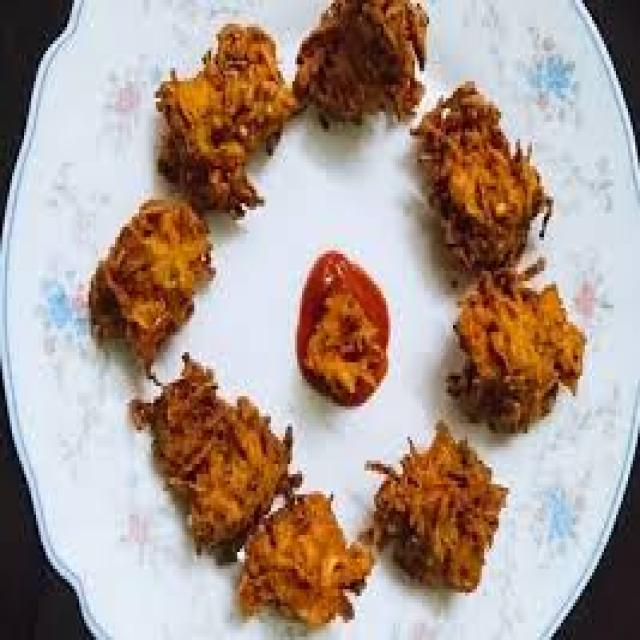BAJI: (129, 352, 290, 552), (362, 423, 506, 586), (240, 491, 372, 623)
